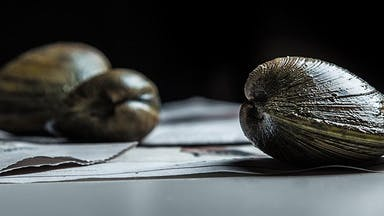cockle: (238, 54, 383, 167), (4, 43, 113, 137), (52, 67, 162, 139)
